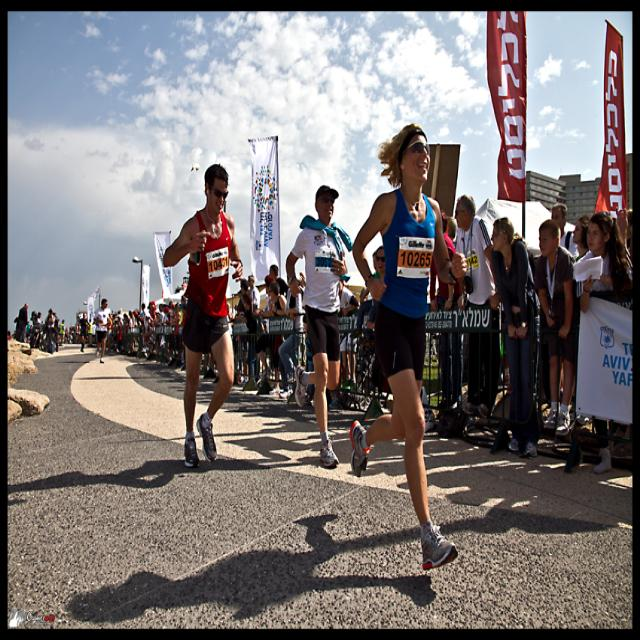Bib: (399, 252, 431, 267), (207, 257, 230, 273)
